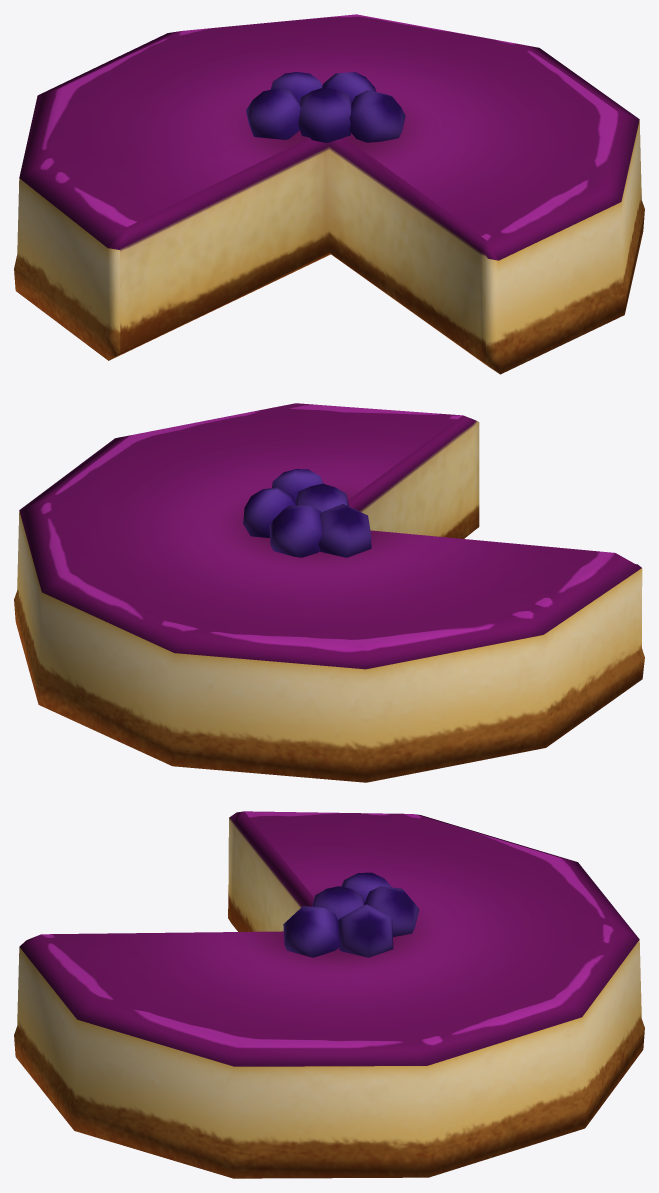
File: Blueberry_Cheesecake_Cut.fbx
3 renders of one model, top to bottom at view 1: azimuth 30°, elevation 25°; view 2: azimuth 150°, elevation 25°; view 3: azimuth 270°, elevation 25°, orthographic.
Parts seen in each view (by area): view 1: Blueberry_Cheesecake_Cut; view 2: Blueberry_Cheesecake_Cut; view 3: Blueberry_Cheesecake_Cut.
Boxes of the visible parts, <box> form: Blueberry_Cheesecake_Cut: <box>14,14,644,374</box>; Blueberry_Cheesecake_Cut: <box>14,403,644,782</box>; Blueberry_Cheesecake_Cut: <box>14,811,644,1178</box>.
Size of the model in its own units: 79.53 by 23.56 by 82.4.
